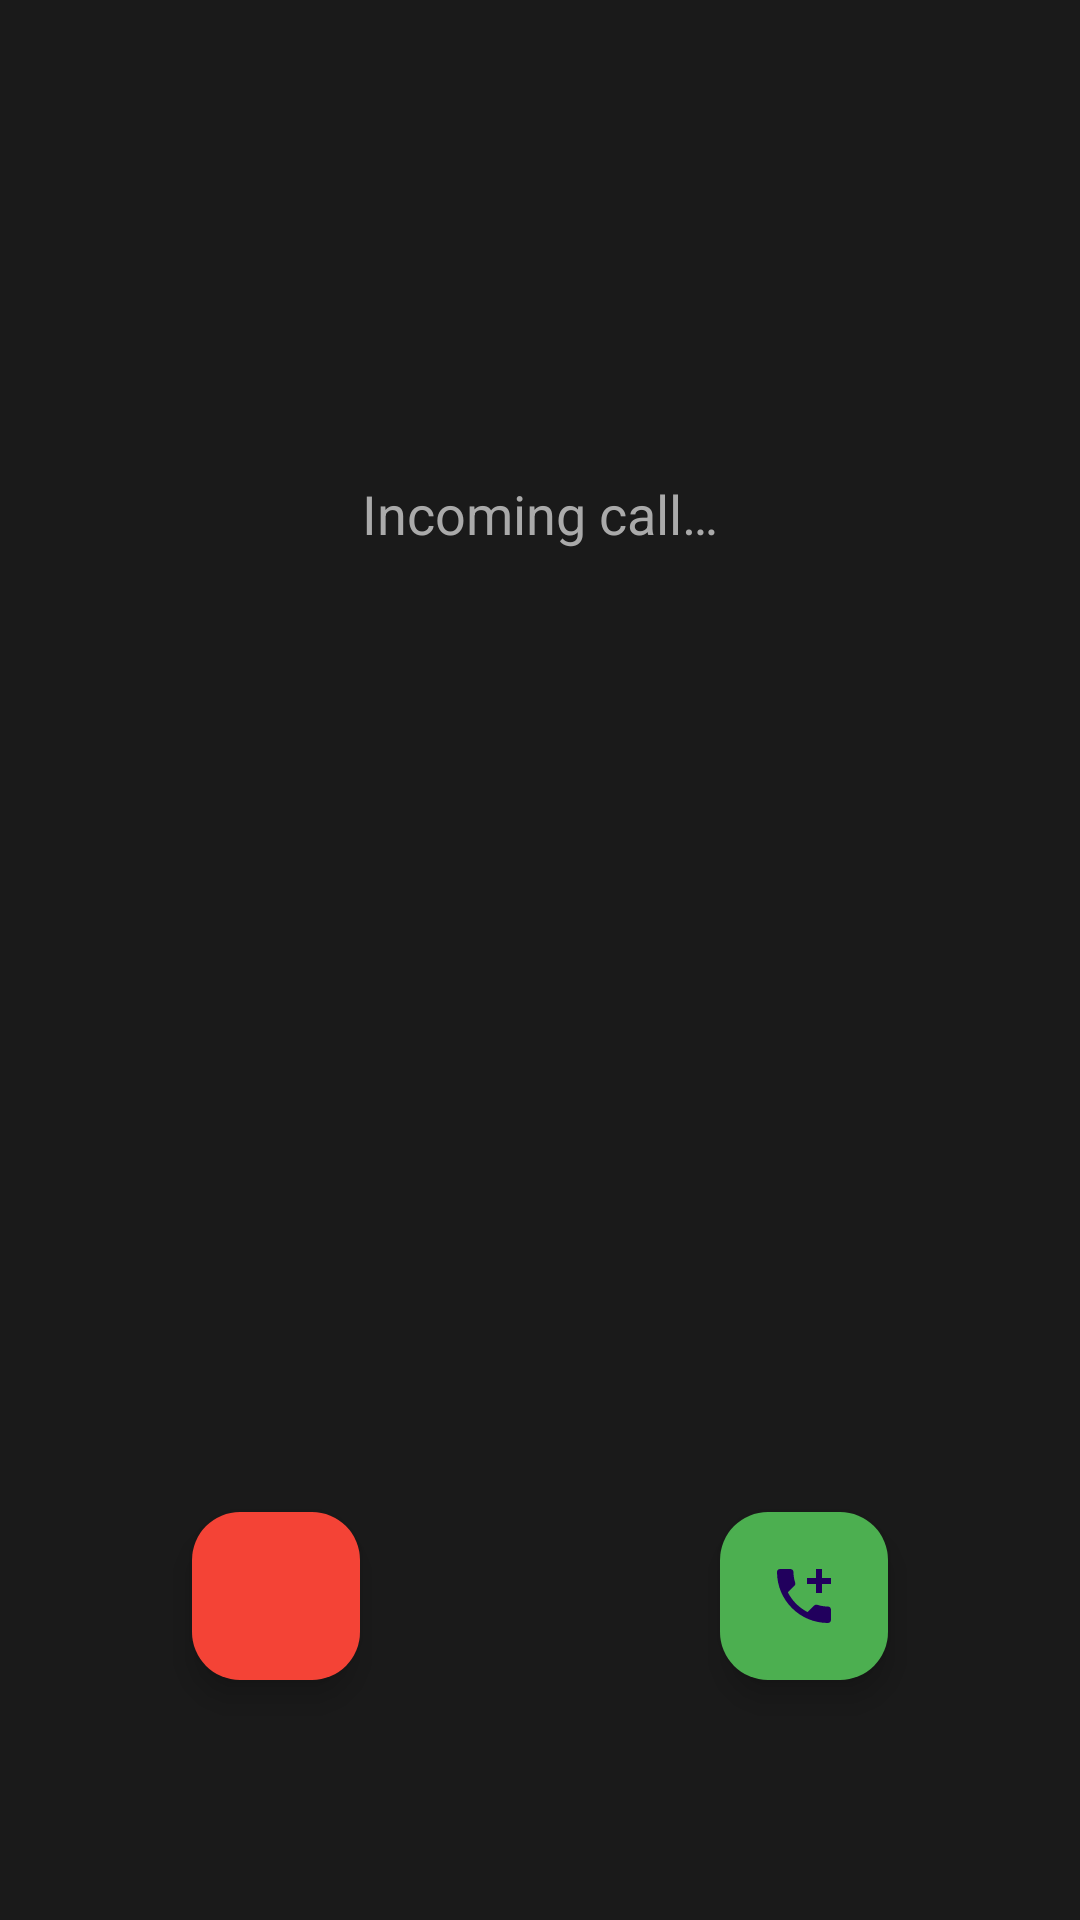

Screen size 1080 x 1920. Icon name, then its center in pixels as [x,y]:
call start: [804,1596]
